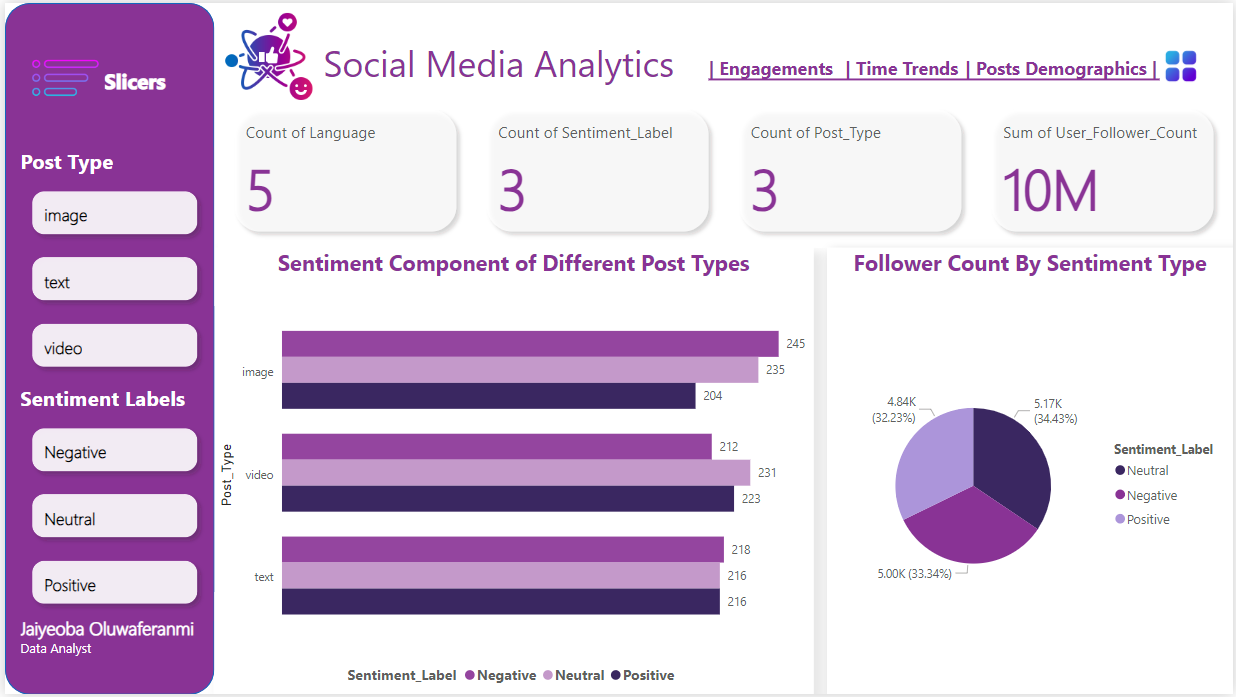

The dashboard page shown, as its layout file describes it:
{"tool":"powerbi","page":{"name":"Post Demographics","canvas":[1280,720],"ordinal":2},"visuals":[{"type":"clusteredBarChart","title":"Sentiment Component of Different Post Types","fields":{"Category":["BrainWave SocialMediaSentiments.Post_Type"],"Series":["BrainWave SocialMediaSentiments.Sentiment_Label"],"Y":["CountNonNull(BrainWave SocialMediaSentiments.Post_ID)"]},"box":[216.7,255,625,465],"z":0},{"type":"cardVisual","fields":{"Data":["Count(BrainWave SocialMediaSentiments.Language)","Count(BrainWave SocialMediaSentiments.Sentiment_Label)","Count(BrainWave SocialMediaSentiments.Post_Type)","Sum(BrainWave SocialMediaSentiments.User_Follower_Count)"]},"box":[222,93.5,1057.4,161.6],"z":1000},{"type":"shape","box":[0,0,218.1,720.5],"z":2000},{"type":"textbox","box":[327.1,31.8,387.6,80.3],"z":3000},{"type":"pieChart","title":"Follower Count By Sentiment Type","fields":{"Y":["Avg(BrainWave SocialMediaSentiments.User_Follower_Count)"],"Category":["BrainWave SocialMediaSentiments.Sentiment_Label"]},"box":[856,255,423,465],"z":4000},{"type":"advancedSlicerVisual","title":"Post Type","fields":{"Values":["BrainWave SocialMediaSentiments.Post_Type"]},"box":[10.9,150.4,206.3,246.6],"z":5000},{"type":"advancedSlicerVisual","title":"Sentiment Labels","fields":{"Values":["BrainWave SocialMediaSentiments.Sentiment_Label"]},"box":[10.9,397,206.3,246.6],"z":6000},{"type":"image","box":[221.8,0,105.5,111.7],"z":7000},{"type":"textbox","box":[10.6,632.9,193.8,75.7],"z":8000},{"type":"image","box":[10.9,31,103.9,93.1],"z":9000},{"type":"textbox","box":[97.7,60.5,91.5,51.2],"z":10000},{"type":"actionButton","title":"| Engagements","box":[733.6,54.3,133.4,32.6],"z":11000},{"type":"actionButton","title":"| Time Trends","box":[866.9,54.3,133.4,32.6],"z":12000},{"type":"actionButton","title":"| Posts Demographics |","box":[1000.3,54.3,203.2,32.6],"z":13000},{"type":"shape","box":[733.6,71.3,469.9,15.5],"z":14000},{"type":"image","box":[1202.3,43.9,46.9,43.9],"z":15000}]}

Visuals, with their boxes in screenshot pixels (x1, y1, x2, y2), scaled from the page's 1280x720 canvas onto the 1236x697 screenshot:
"Sentiment Component of Different Post Types" clusteredBarChart: crop(209, 247, 813, 696)
cardVisual - Count(BrainWave SocialMediaSentiments.Language) x Count(BrainWave SocialMediaSentiments.Sentiment_Label): crop(214, 91, 1235, 247)
shape: crop(0, 0, 211, 696)
textbox: crop(316, 31, 690, 109)
"Follower Count By Sentiment Type" pieChart: crop(827, 247, 1235, 696)
"Post Type" advancedSlicerVisual: crop(11, 146, 210, 384)
"Sentiment Labels" advancedSlicerVisual: crop(11, 384, 210, 623)
image: crop(214, 0, 316, 108)
textbox: crop(10, 613, 197, 686)
image: crop(11, 30, 111, 120)
textbox: crop(94, 59, 183, 108)
"| Engagements" actionButton: crop(708, 53, 837, 84)
"| Time Trends" actionButton: crop(837, 53, 966, 84)
"| Posts Demographics |" actionButton: crop(966, 53, 1162, 84)
shape: crop(708, 69, 1162, 84)
image: crop(1161, 42, 1206, 85)
